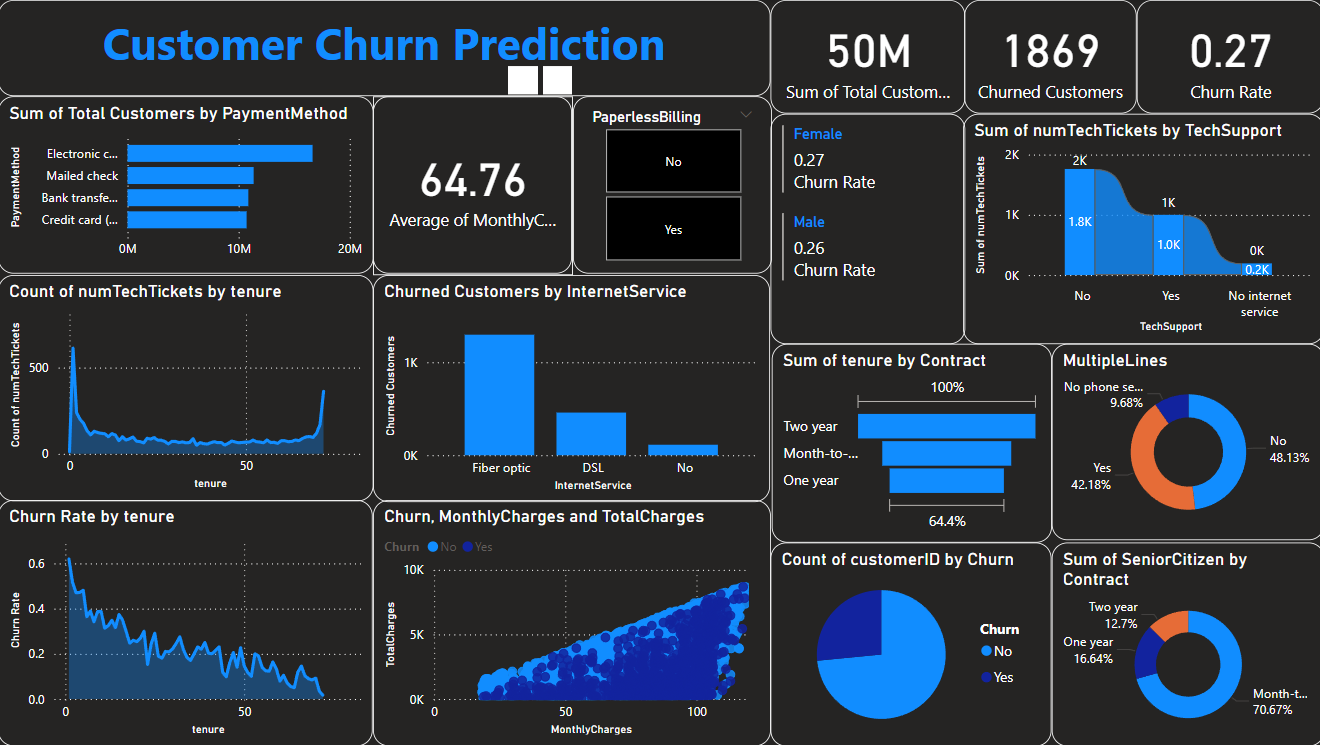

This screenshot's page, from the dashboard's own definition file:
{"tool":"powerbi","page":{"name":"Page 1","canvas":[1280,720],"ordinal":0},"visuals":[{"type":"card","fields":{"Values":["Sum(01 Churn-Dataset.Total Customers)"]},"box":[745.6,222,184.6,109.8],"z":0},{"type":"pieChart","fields":{"Category":["01 Churn-Dataset.Churn"],"Y":["CountNonNull(01 Churn-Dataset.customerID)"]},"box":[745.6,523.6,271.4,196.6],"z":1000},{"type":"card","fields":{"Values":["01 Churn-Dataset.Churned Customers"]},"box":[1114.8,222,165.3,109.8],"z":2000},{"type":"card","fields":{"Values":["01 Churn-Dataset.Churn Rate"]},"box":[1114.8,112.2,165.3,109.8],"z":3000},{"type":"multiRowCard","fields":{"Values":["01 Churn-Dataset.gender","01 Churn-Dataset.Churn Rate"]},"box":[745.6,331.8,184.6,191.8],"z":4000},{"type":"donutChart","fields":{"Y":["Sum(01 Churn-Dataset.SeniorCitizen)"],"Category":["01 Churn-Dataset.Contract"]},"box":[1017,523.6,263,196.6],"z":5000},{"type":"lineChart","fields":{"Category":["01 Churn-Dataset.tenure"],"Y":["01 Churn-Dataset.Churn Rate"]},"box":[0,482.6,361.9,237.7],"z":6000},{"type":"scatterChart","fields":{"Series":["01 Churn-Dataset.Churn"],"X":["01 Churn-Dataset.MonthlyCharges"],"Y":["01 Churn-Dataset.TotalCharges"]},"box":[361.9,482.6,383.6,237.7],"z":7000},{"type":"barChart","fields":{"Category":["01 Churn-Dataset.PaymentMethod"],"Y":["Sum(01 Churn-Dataset.Total Customers)"]},"box":[930.2,331.8,349.9,191.8],"z":8000},{"type":"lineChart","fields":{"Y":["CountNonNull(01 Churn-Dataset.numTechTickets)"],"Category":["01 Churn-Dataset.tenure"]},"box":[0,254.6,361.9,228],"z":9000},{"type":"card","fields":{"Values":["Avg(01 Churn-Dataset.MonthlyCharges)"]},"box":[930.2,222,184.6,109.8],"z":11000},{"type":"columnChart","fields":{"Y":["01 Churn-Dataset.Churned Customers"],"Category":["01 Churn-Dataset.InternetService"]},"box":[361.9,253.4,383.6,230.4],"z":12000},{"type":"textbox","box":[0,0,745.6,92.9],"z":12001}]}

Visuals, with their boxes in screenshot pixels (x1, y1, x2, y2), scaled from the page's 1280x720 canvas onto the 1320x745 screenshot:
card - Sum(01 Churn-Dataset.Total Customers): (769,230,959,343)
pieChart - 01 Churn-Dataset.Churn x CountNonNull(01 Churn-Dataset.customerID): (769,542,1049,744)
card - 01 Churn-Dataset.Churned Customers: (1150,230,1319,343)
card - 01 Churn-Dataset.Churn Rate: (1150,116,1319,230)
multiRowCard - 01 Churn-Dataset.gender x 01 Churn-Dataset.Churn Rate: (769,343,959,542)
donutChart - Sum(01 Churn-Dataset.SeniorCitizen) x 01 Churn-Dataset.Contract: (1049,542,1319,744)
lineChart - 01 Churn-Dataset.tenure x 01 Churn-Dataset.Churn Rate: (0,499,373,744)
scatterChart - 01 Churn-Dataset.Churn x 01 Churn-Dataset.MonthlyCharges: (373,499,769,744)
barChart - 01 Churn-Dataset.PaymentMethod x Sum(01 Churn-Dataset.Total Customers): (959,343,1319,542)
lineChart - CountNonNull(01 Churn-Dataset.numTechTickets) x 01 Churn-Dataset.tenure: (0,263,373,499)
card - Avg(01 Churn-Dataset.MonthlyCharges): (959,230,1150,343)
columnChart - 01 Churn-Dataset.Churned Customers x 01 Churn-Dataset.InternetService: (373,262,769,501)
textbox: (0,0,769,96)
